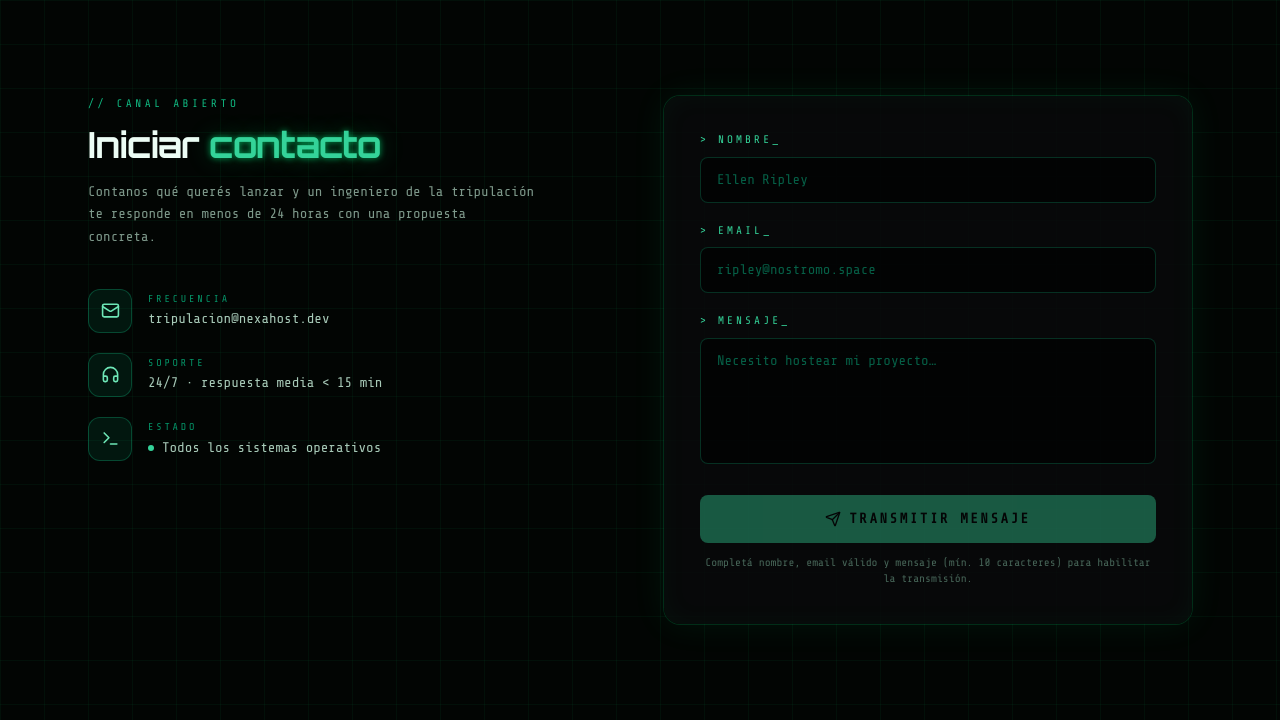
Test: formulario de contacto › permanece deshabilitado con campos parciales o inválidos
The image size is (1280, 720).
In the field with placeholder "Ellen Ripley": (928, 180) [700,156,1156,202], type "Ripley"
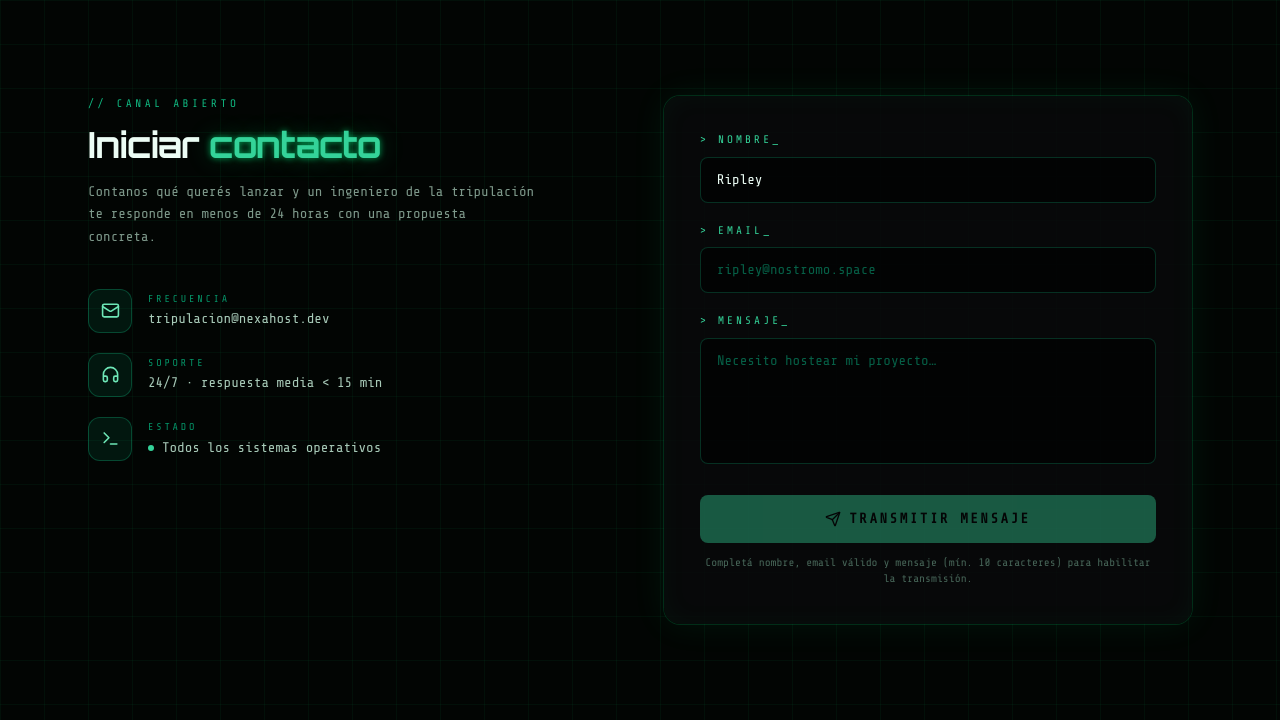
Expected: the button "Transmitir mensaje" is disabled, [700,494,1156,542]
In the field with placeholder "ripley@nostromo.space": (928, 270) [700,247,1156,293], type "no-es-un-email"
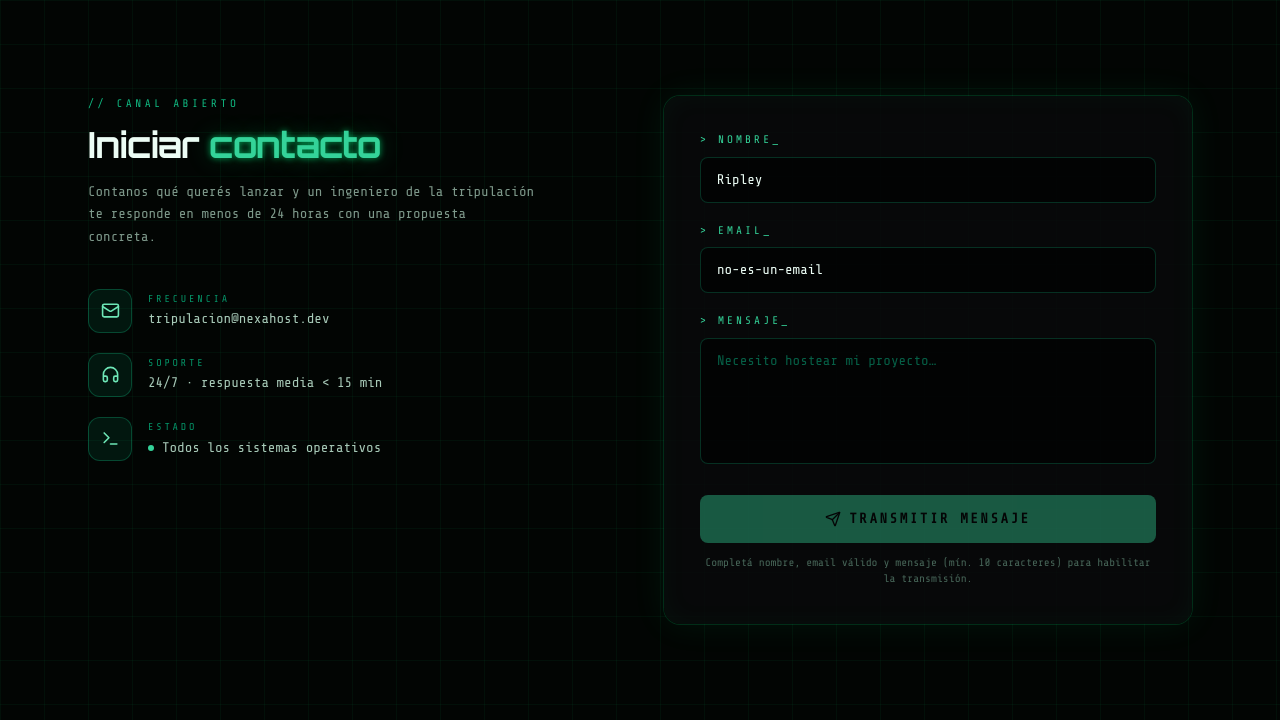
In the text box with placeholder "Necesito hostear mi proyecto…": (928, 400) [700,338,1156,464], type "Necesito hostear mi proyecto."
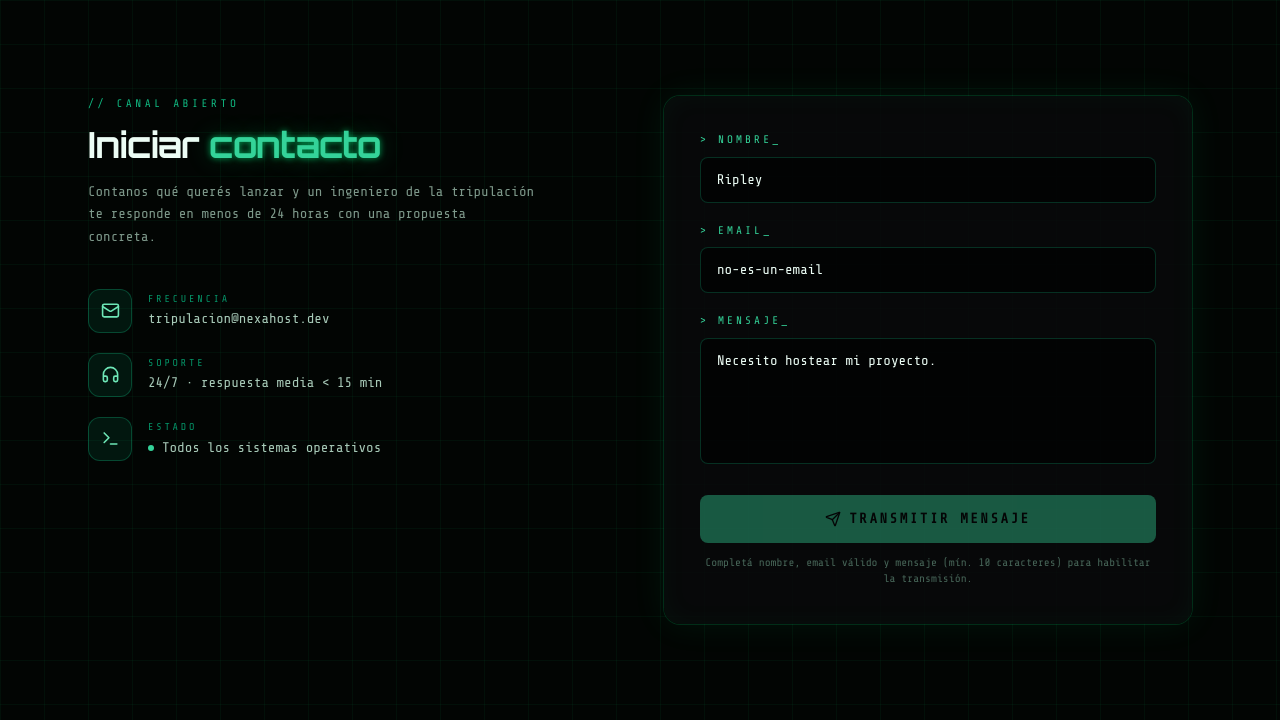
Expected: the button "Transmitir mensaje" is disabled, [700,494,1156,542]
Replace the text in the field with placeholder "ripley@nostromo.space" with "ripley@nostromo.space": (928, 270) [700,247,1156,293]
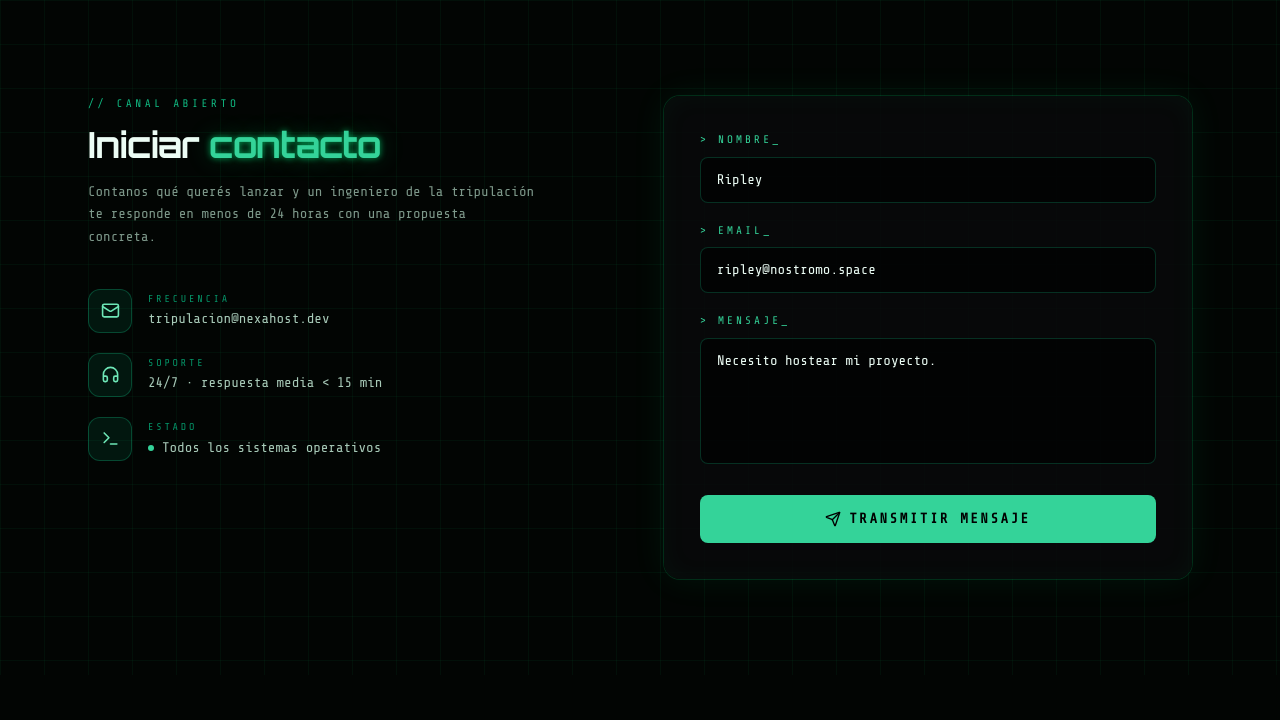
Replace the text in the text box with placeholder "Necesito hostear mi proyecto…" with "corto": (928, 400) [700,338,1156,464]
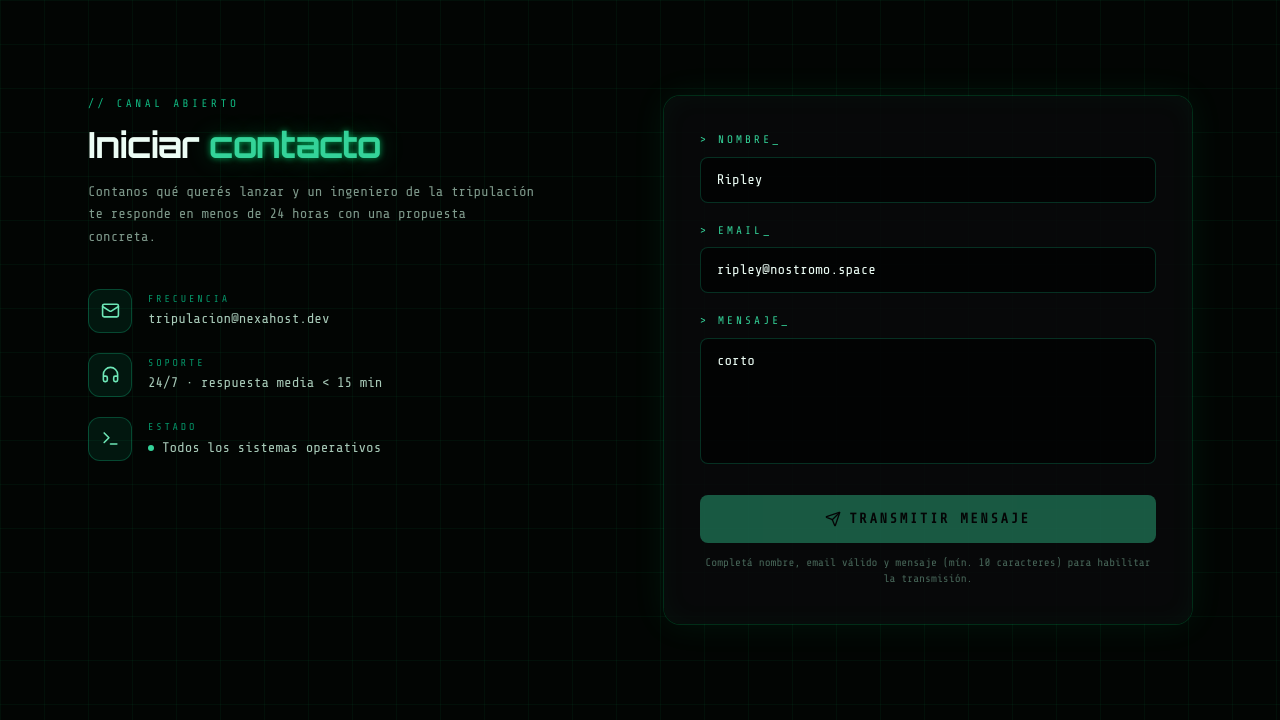
Result: the button "Transmitir mensaje" is disabled at [700,494,1156,542]
